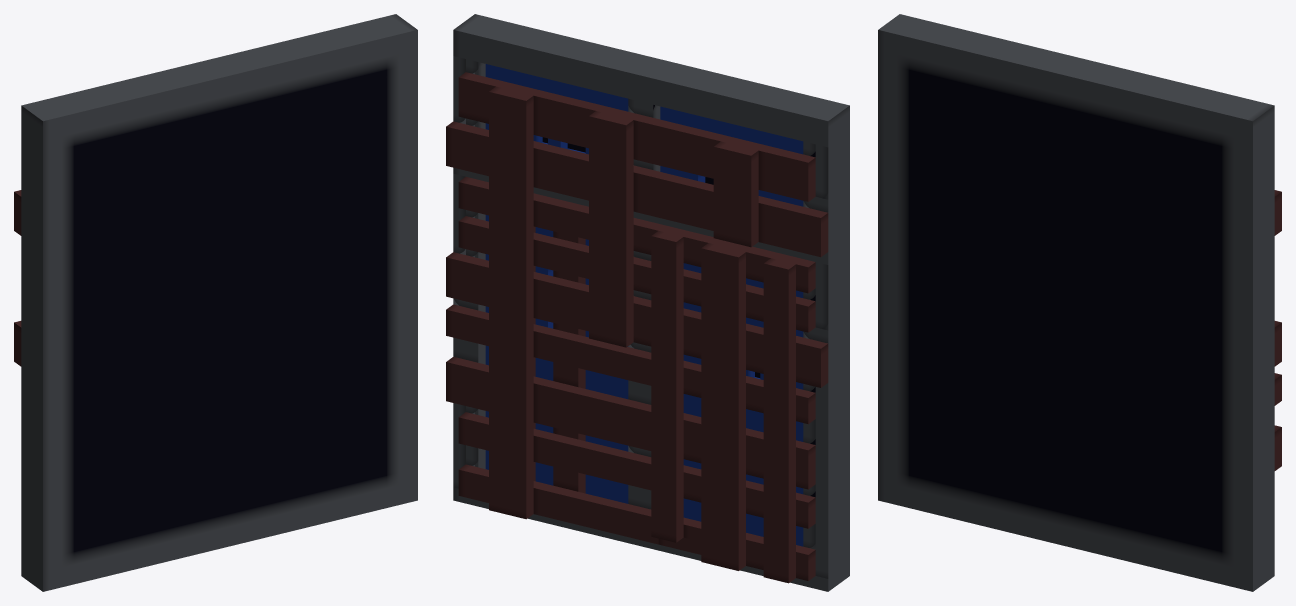
Rendered from okno1.dae.
3 views of the same model, side by side, from view 1: azimuth 30°, elevation 25°; view 2: azimuth 150°, elevation 25°; view 3: azimuth 330°, elevation 25° (orthographic).
Visible parts, largest first — view 1: Content; view 2: Content; view 3: Content.
Part boxes in pixels (box(x1,y1,x2,y2)): Content: box(14, 14, 417, 591); Content: box(446, 14, 849, 591); Content: box(878, 14, 1281, 591).
Size of the model in its own units: 30 by 36 by 5.
1 material, 1 textured.
